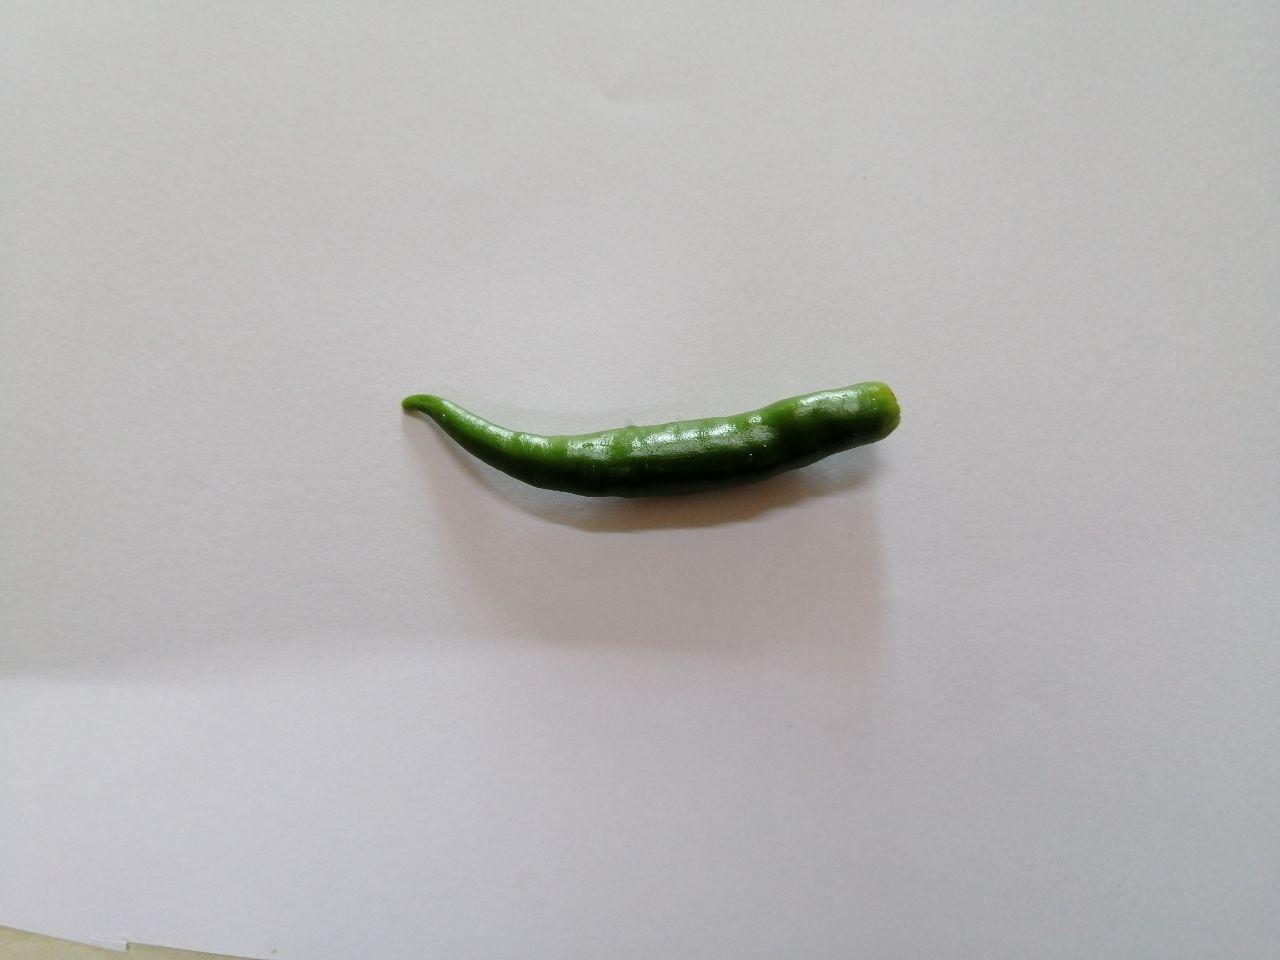lada hijau: (368, 347, 925, 544)
